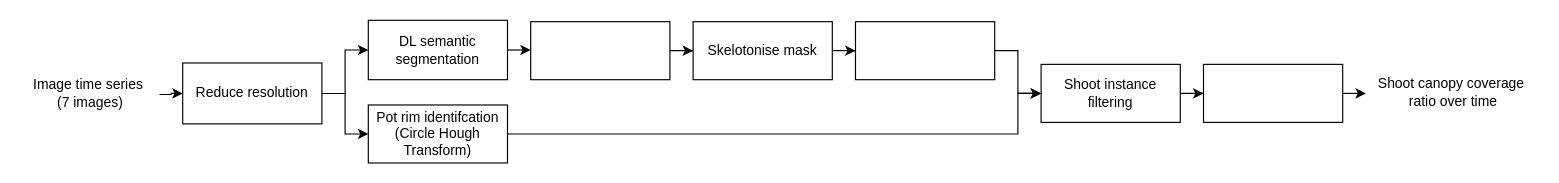
Image size: 1559x183. Some labels were removed from this diagram. The box of each missing label's shape, as (x1, y1, x2, y2) in pixels:
Instance segmentation (8-connectivity or custom kernels): (854, 21, 995, 80)
Opening operation (ensure continuous masks): (530, 21, 670, 80)
Phenotype-to-genotype mapping: (1202, 63, 1343, 122)
